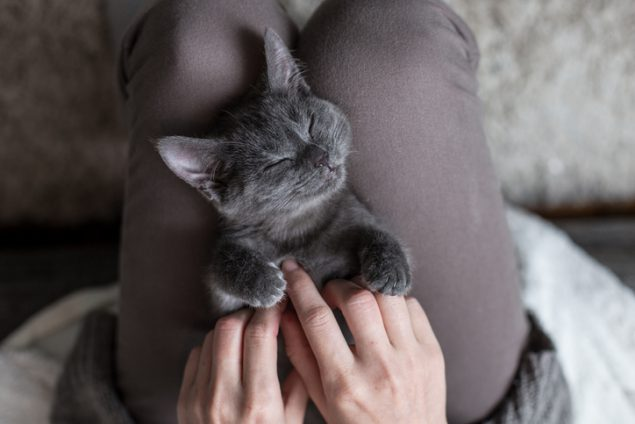cat: (136, 21, 438, 258)
